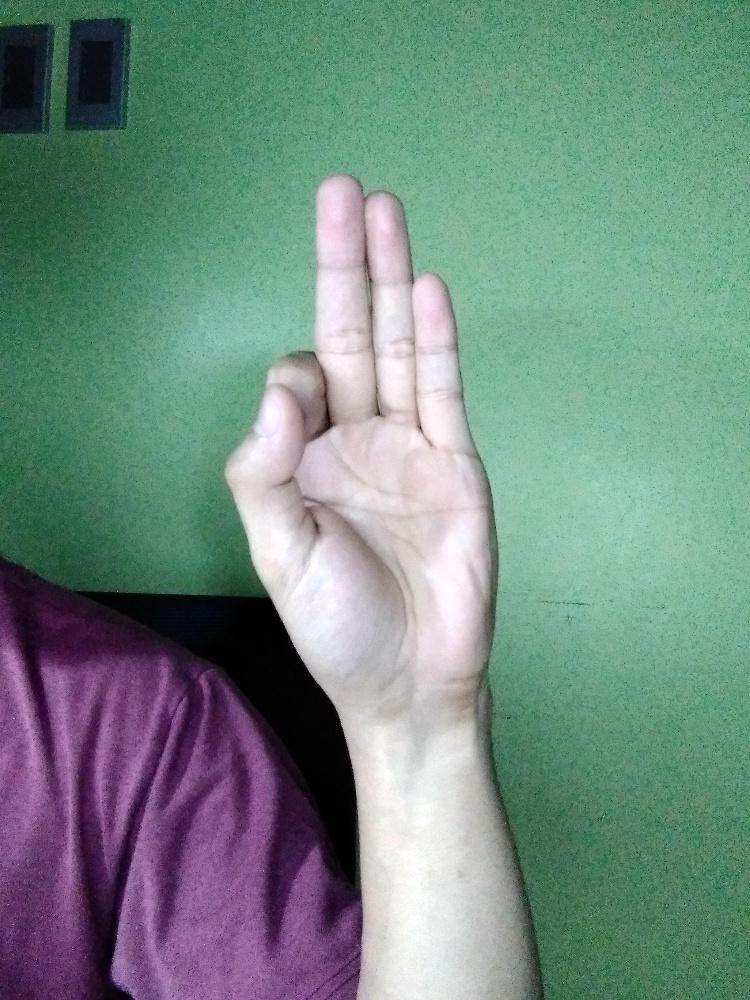f: (221, 169, 503, 713)
